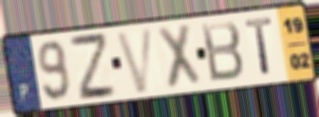9: (36, 38, 74, 103)
B: (199, 19, 246, 84)
T: (243, 15, 275, 77)
V: (113, 24, 156, 96)
X: (155, 22, 204, 92)
Z: (67, 33, 119, 103)
